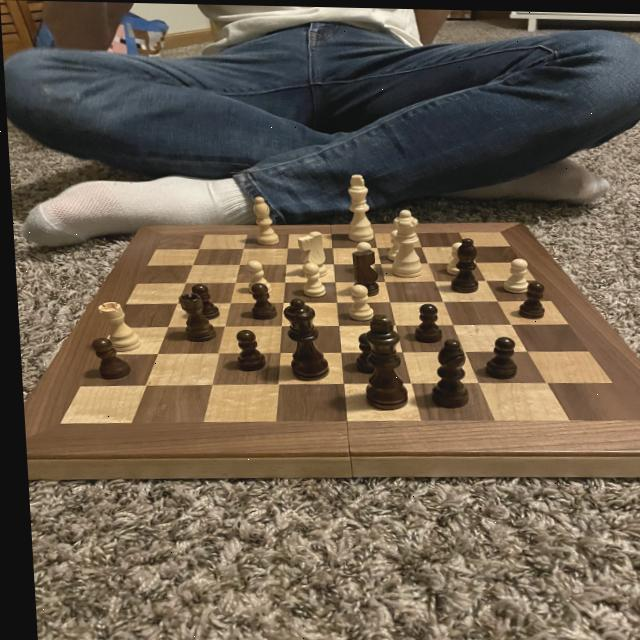bishop: (421, 334, 469, 410), (442, 234, 479, 293)
black-bishop: (353, 310, 410, 413)
black-king: (343, 244, 379, 296)
black-knight: (87, 335, 128, 382), (225, 325, 264, 374), (476, 333, 516, 380), (510, 275, 546, 319), (242, 279, 276, 322), (407, 299, 439, 344), (184, 280, 219, 321), (350, 329, 373, 373)
black-pawn: (275, 294, 327, 382)
black-queen: (174, 290, 215, 344)
black-rook: (246, 193, 279, 247)
white-bishop: (338, 170, 377, 243)
white-king: (292, 227, 326, 279)
white-knight: (340, 280, 373, 323), (495, 254, 530, 294), (293, 258, 327, 297), (345, 237, 377, 276), (241, 257, 272, 296), (439, 237, 464, 275), (383, 226, 403, 260)
white-pawn: (384, 206, 423, 280)
white-queen: (91, 299, 143, 354)
